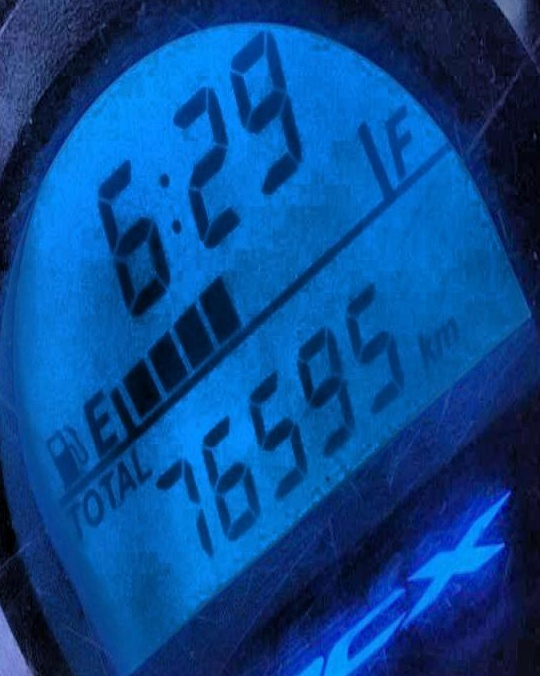2: (173, 81, 241, 253)
5: (244, 365, 311, 499), (343, 280, 409, 412)
6: (93, 150, 169, 319), (199, 411, 261, 542)
7: (155, 454, 214, 564)
9: (227, 22, 309, 202), (295, 321, 359, 459)
X: (382, 99, 419, 181), (80, 385, 121, 453), (153, 162, 184, 242), (435, 312, 460, 356), (96, 466, 119, 510), (416, 327, 437, 372), (128, 447, 152, 486), (81, 488, 104, 526), (115, 460, 134, 502), (64, 502, 84, 540)
